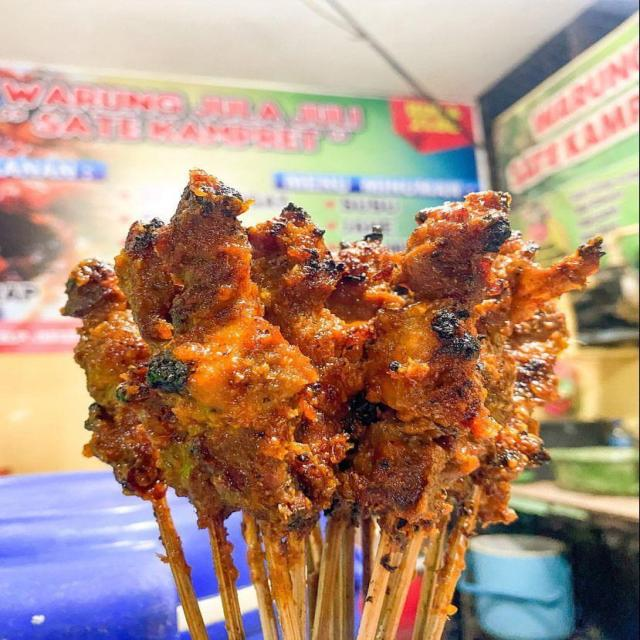Sate: (36, 135, 616, 627)
